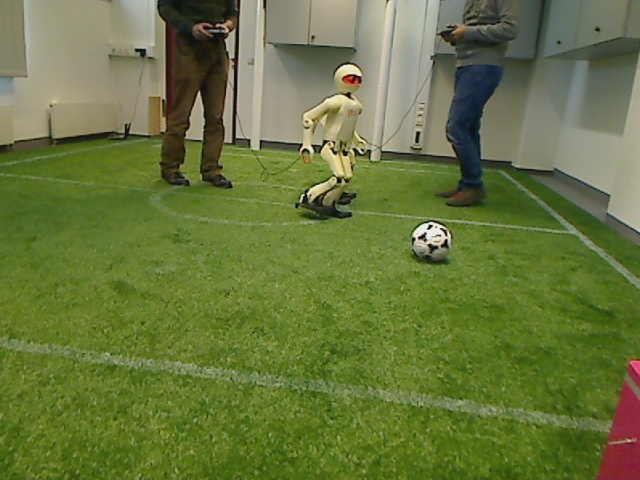ball: (407, 220, 456, 267)
robot: (295, 58, 366, 220)
